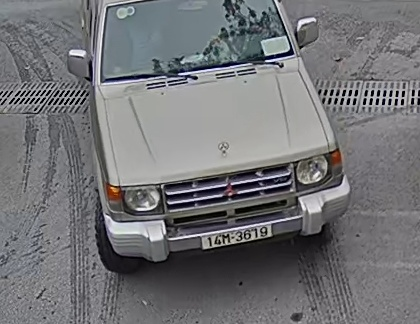vehicle plate: (189, 223, 278, 247)
